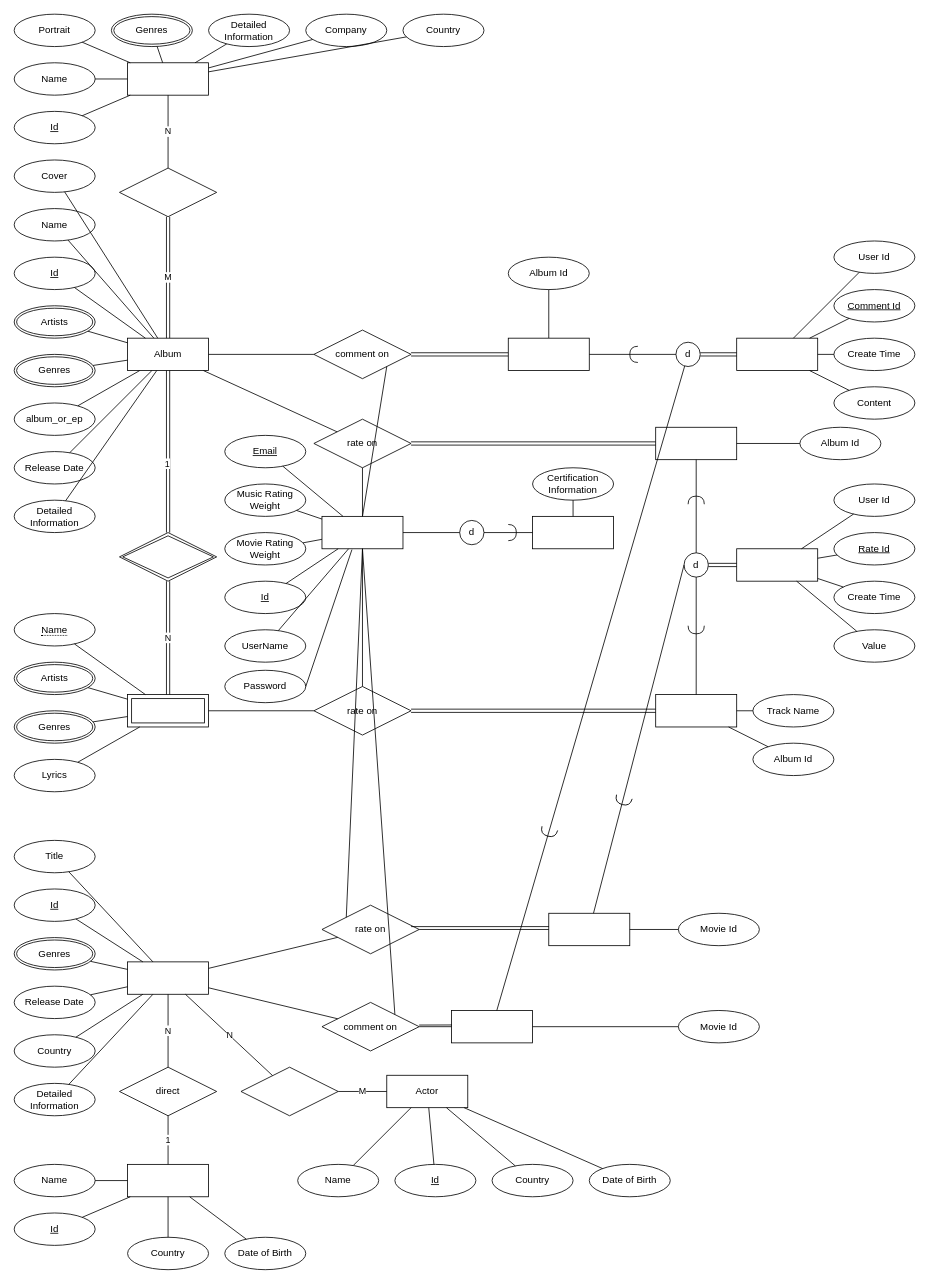
Some shapes in this 929 by 1284 pixel diagram are drawn without their labels. Each missing label, with the centre of its shape:
"act" belongs at point 289,1091.
"Album Comment" belongs at point 548,354.
"Album Rating" belongs at point 696,443.
"Artist" belongs at point 168,78.
"Certified Musician" belongs at point 573,532.
"Comment" belongs at point 777,354.
"Director" belongs at point 168,1180.
"has" belongs at point 168,556.
"Movie" belongs at point 168,977.
"Movie Comment" belongs at point 492,1026.
"Movie Rating" belongs at point 589,929.
"Rating" belongs at point 777,564.
"Track" belongs at point 168,710.
"Track Rating" belongs at point 696,710.
"User" belongs at point 362,532.
"write" belongs at point 168,192.
